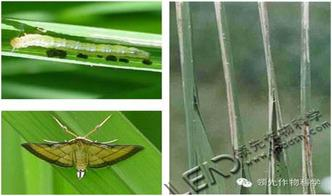pest: (18, 137, 146, 171), (9, 34, 150, 58)
